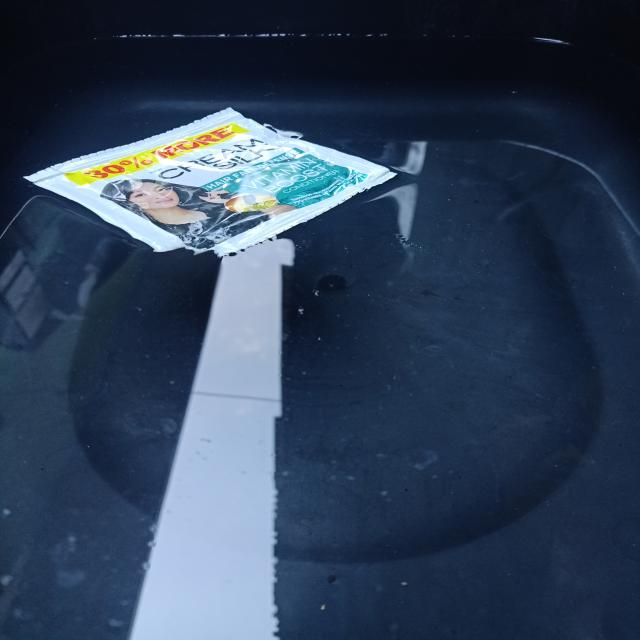Plastic Wrapper: (17, 103, 398, 257)
